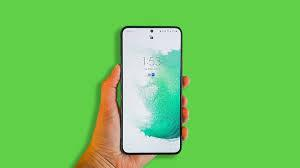Smartphone: (80, 69, 190, 166), (121, 26, 185, 156)
